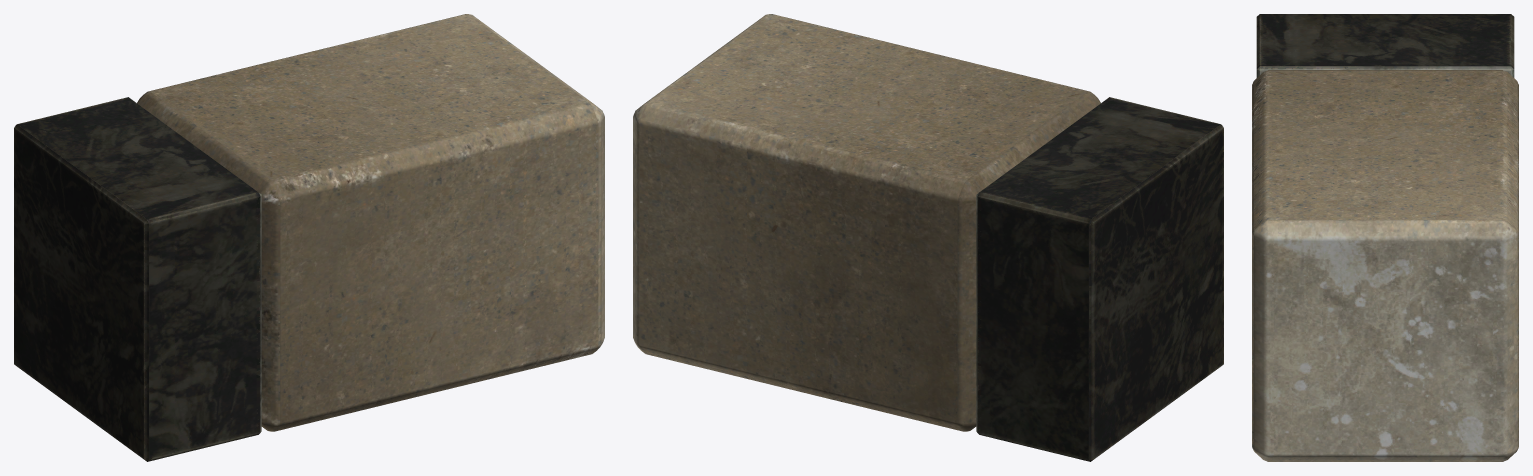
The model's file is cP_CementPillar01_Small.dae.
3 views of the same model, side by side, from view 1: azimuth 30°, elevation 25°; view 2: azimuth 150°, elevation 25°; view 3: azimuth 270°, elevation 25° (orthographic). The views are drawn at different scales.
Parts seen in each view (by area): view 1: cP_CementPillar01_Small.001; view 2: cP_CementPillar01_Small.001; view 3: cP_CementPillar01_Small.001.
Part boxes in pixels (x1,y1,x2,y2): cP_CementPillar01_Small.001: [14, 14, 604, 461]; cP_CementPillar01_Small.001: [633, 14, 1223, 461]; cP_CementPillar01_Small.001: [1252, 14, 1518, 461].
Bounding box in the file's own units: 0.7539 × 0.3897 × 0.3897.
